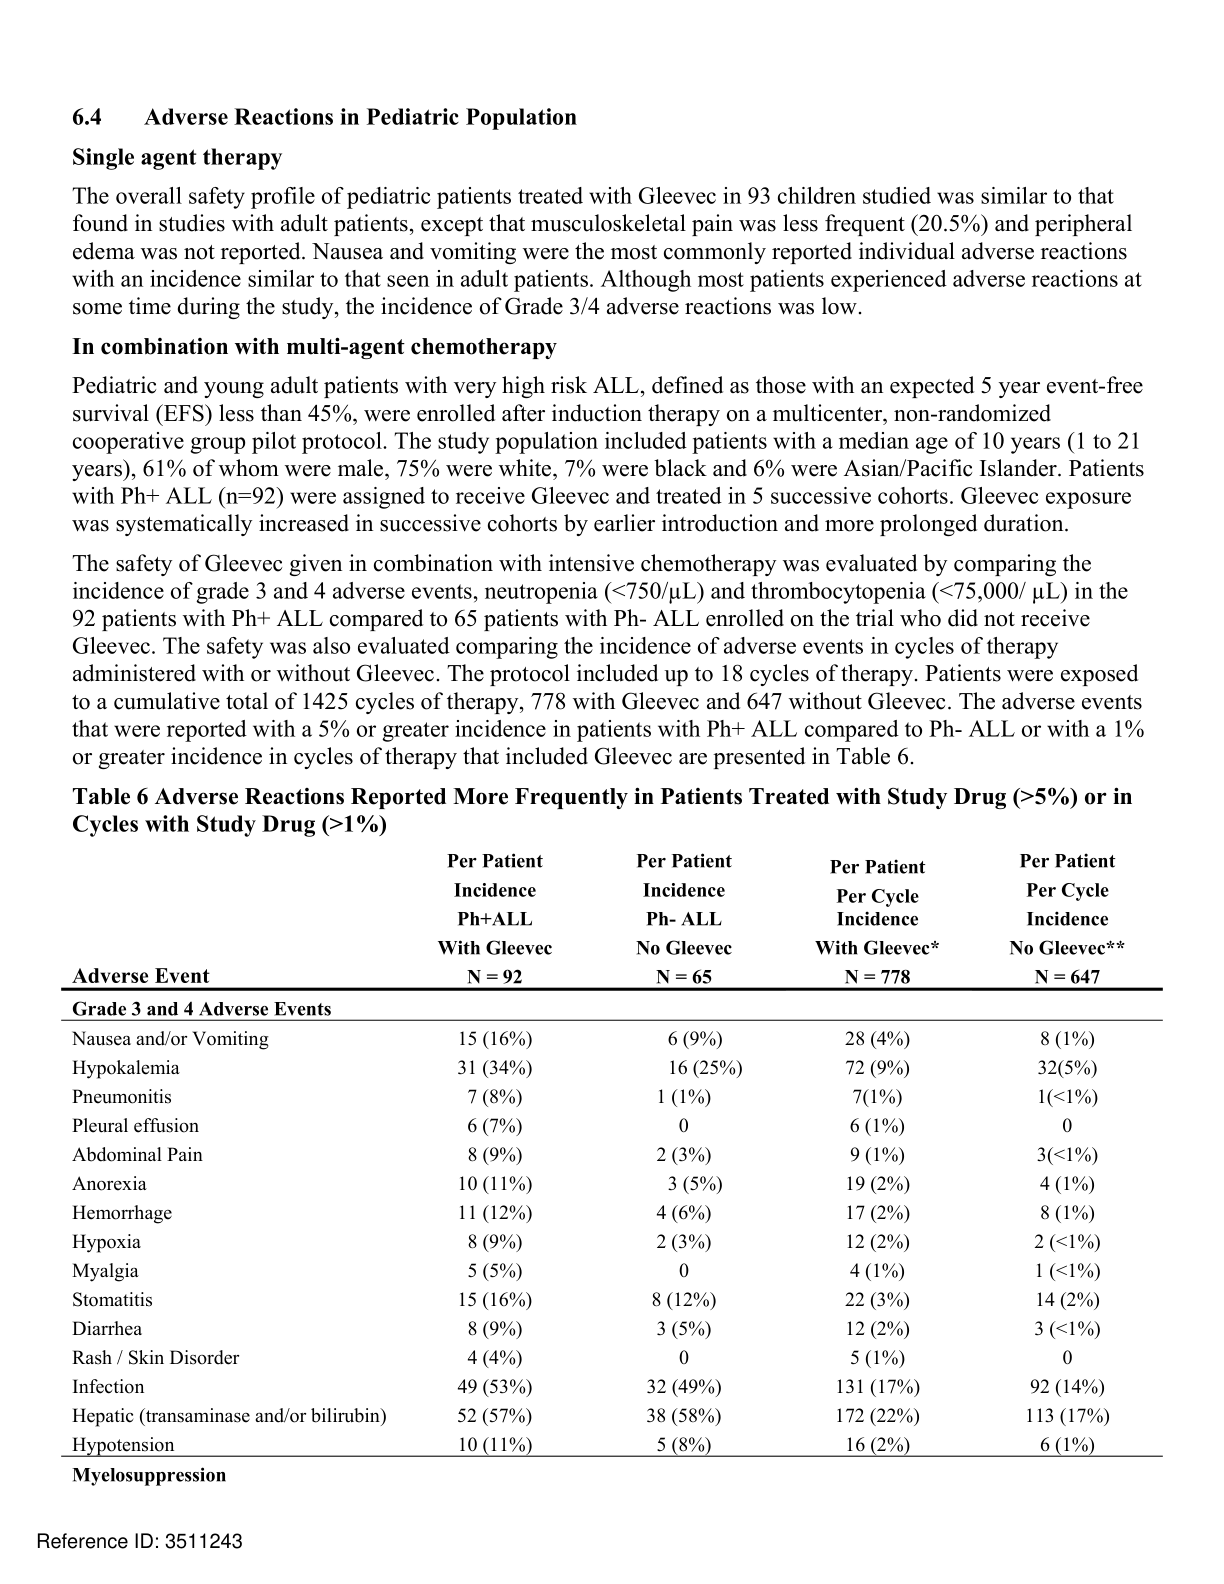partial_lined: (62, 847, 1165, 1459)
